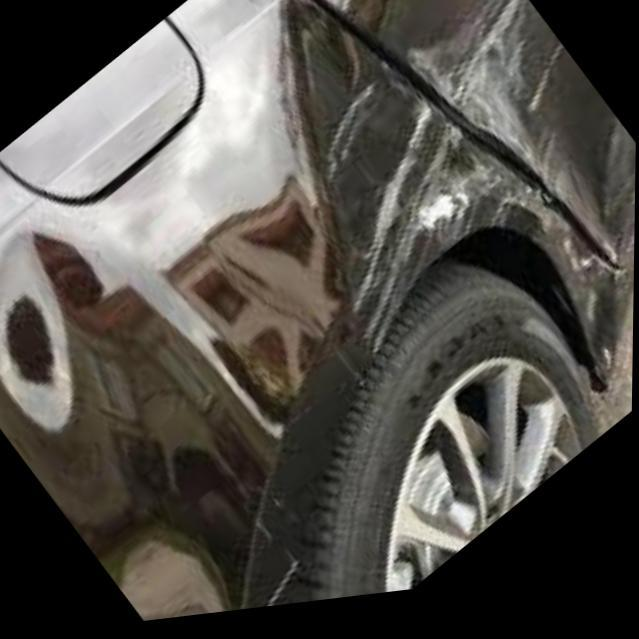rub: (276, 0, 636, 420)
